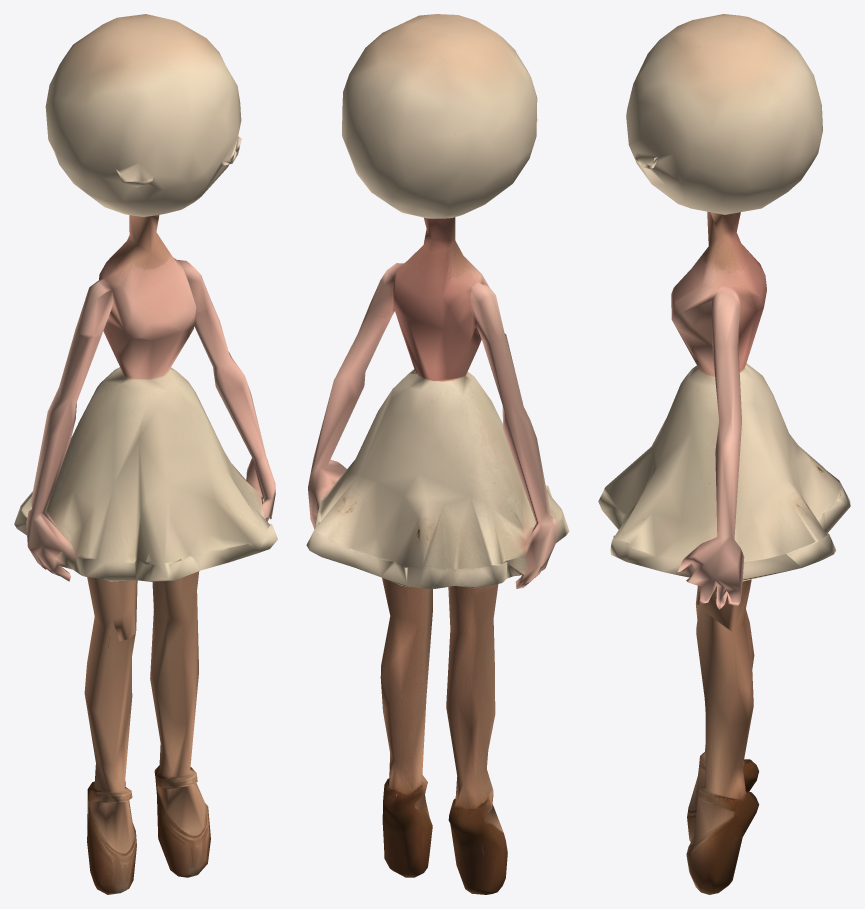
The model's file is regr_spinning_doll.fbx.
3 renders of one model, left to right at view 1: azimuth 30°, elevation 25°; view 2: azimuth 150°, elevation 25°; view 3: azimuth 270°, elevation 25°, orthographic.
Parts seen in each view (by area): view 1: Mesh1.0; view 2: Mesh1.0; view 3: Mesh1.0.
Part boxes in pixels (x1,y1,x2,y2): Mesh1.0: [14, 14, 277, 894]; Mesh1.0: [306, 14, 569, 894]; Mesh1.0: [598, 14, 850, 894].
Size of the model in its own units: 54.64 by 189 by 51.11.
1 material, 1 textured.
